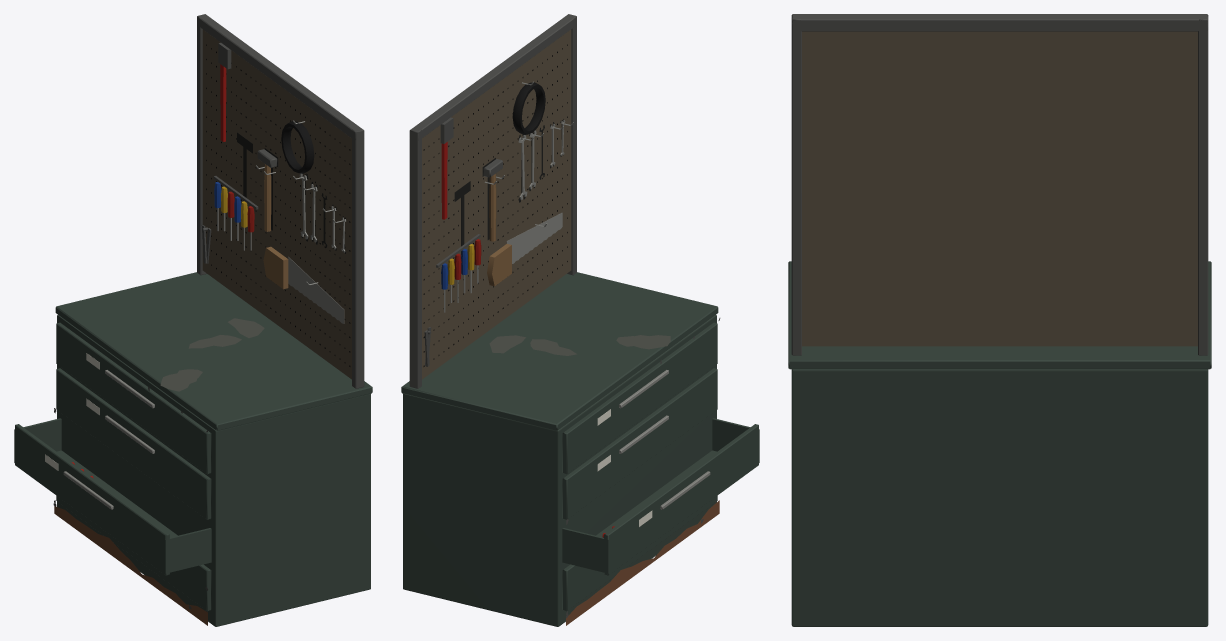
File: macchina_tools.glb
The picture shows the model from 3 angles, left to right: view 1: azimuth 30°, elevation 25°; view 2: azimuth 150°, elevation 25°; view 3: azimuth 270°, elevation 25°; orthographic projection. The views are drawn at different scales.
Visible parts, largest first — view 1: macchina_werkzeug0, macchina_werkzeug5, macchina_werkzeug4, macchina_werkzeug1, macchina_werkzeug15, macchina_werkzeug14, macchina_werkzeug8, macchina_werkzeug13, macchina_werkzeug6, macchina_werkzeug7; view 2: macchina_werkzeug0, macchina_werkzeug5, macchina_werkzeug4, macchina_werkzeug1, macchina_werkzeug15, macchina_werkzeug14, macchina_werkzeug8, macchina_werkzeug13, macchina_werkzeug6, macchina_werkzeug7, macchina_werkzeug12; view 3: macchina_werkzeug5, macchina_werkzeug0, macchina_werkzeug4.
Boxes of the visible parts, x1=… form: macchina_werkzeug0: x1=14, y1=272, x2=372, y2=626; macchina_werkzeug5: x1=202, y1=29, x2=351, y2=379; macchina_werkzeug4: x1=53, y1=14, x2=364, y2=609; macchina_werkzeug1: x1=63, y1=120, x2=345, y2=509; macchina_werkzeug15: x1=54, y1=506, x2=207, y2=625; macchina_werkzeug14: x1=160, y1=318, x2=264, y2=391; macchina_werkzeug8: x1=263, y1=164, x2=288, y2=289; macchina_werkzeug13: x1=281, y1=121, x2=314, y2=173; macchina_werkzeug6: x1=206, y1=44, x2=350, y2=366; macchina_werkzeug7: x1=237, y1=132, x2=346, y2=253; macchina_werkzeug0: x1=401, y1=272, x2=759, y2=626; macchina_werkzeug5: x1=422, y1=29, x2=571, y2=379; macchina_werkzeug4: x1=409, y1=14, x2=720, y2=617; macchina_werkzeug1: x1=444, y1=81, x2=710, y2=509; macchina_werkzeug15: x1=566, y1=500, x2=719, y2=625; macchina_werkzeug14: x1=489, y1=335, x2=670, y2=355; macchina_werkzeug8: x1=487, y1=174, x2=511, y2=286; macchina_werkzeug13: x1=512, y1=82, x2=545, y2=134; macchina_werkzeug6: x1=423, y1=44, x2=567, y2=366; macchina_werkzeug7: x1=454, y1=119, x2=563, y2=254; macchina_werkzeug12: x1=441, y1=142, x2=447, y2=219; macchina_werkzeug5: x1=802, y1=31, x2=1197, y2=346; macchina_werkzeug0: x1=788, y1=261, x2=1211, y2=626; macchina_werkzeug4: x1=791, y1=14, x2=1208, y2=355.
Bounding box in the file's own units: 0.892 × 1.92 × 1.22.
